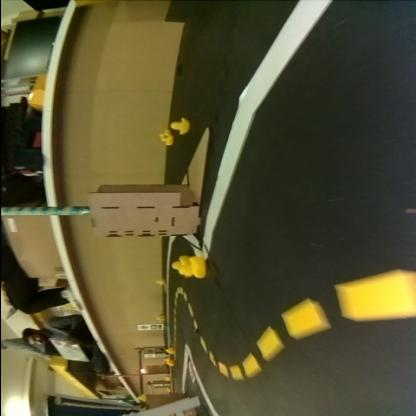Duckie: (178, 257, 204, 279), (169, 119, 187, 135), (169, 258, 188, 268), (160, 136, 170, 146), (158, 130, 170, 136), (154, 280, 162, 286), (154, 316, 162, 322), (165, 360, 173, 366), (164, 349, 172, 354)
Traffic light: (137, 369, 144, 375)
